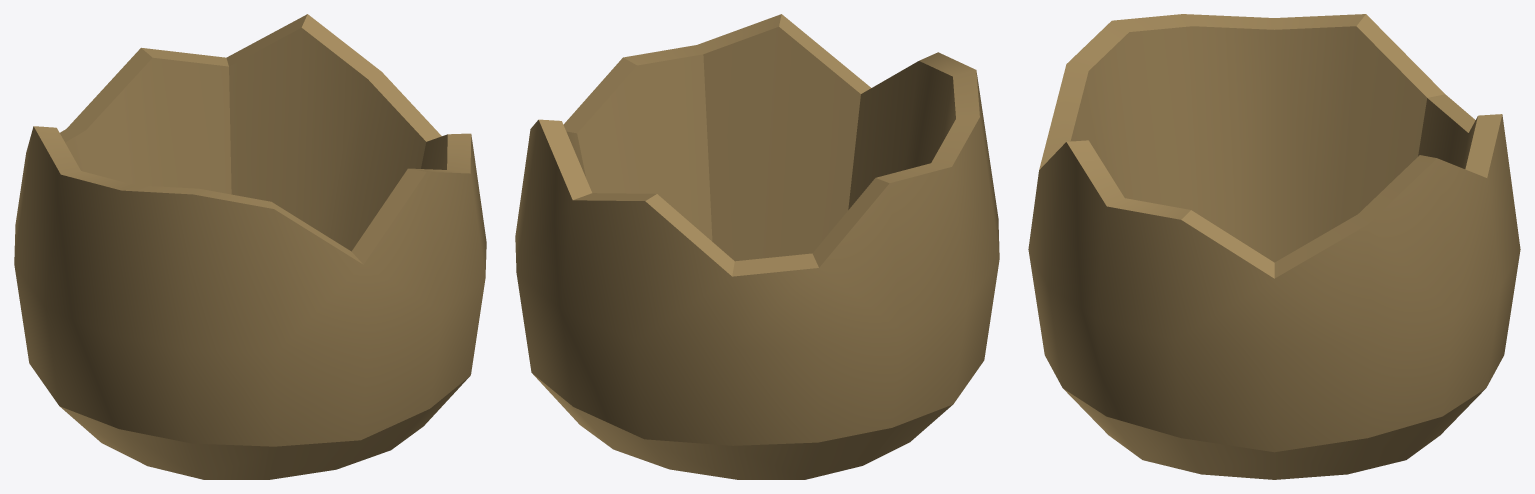
Rendered from Ruins_Pot3Broken.obj.
3 renders of one model, left to right at view 1: azimuth 30°, elevation 25°; view 2: azimuth 150°, elevation 25°; view 3: azimuth 270°, elevation 25°, orthographic. The views are drawn at different scales.
Parts seen in each view (by area): view 1: Pot_Main; view 2: Pot_Main; view 3: Pot_Main.
Boxes of the visible parts, x1,y1,x2,y2 form: Pot_Main: [14, 14, 486, 479]; Pot_Main: [515, 14, 999, 479]; Pot_Main: [1028, 14, 1520, 479].
Size of the model in its own units: 0.4633 by 0.3271 by 0.4633.
